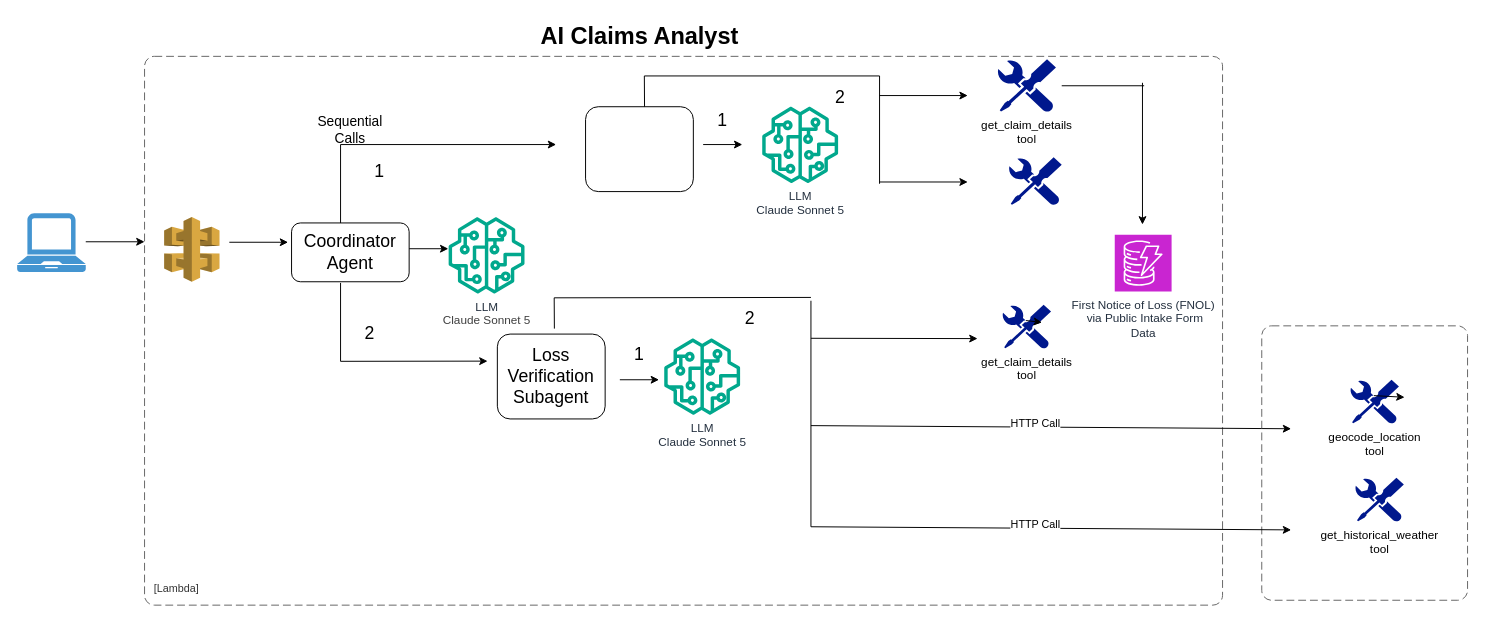
Image size: 1485x622. Some labels were removed from this diagram. Each missing label, with the box of its shape:
[MCP Server]: (1261, 325, 1468, 600)
API Gateway: (163, 216, 220, 282)
assess_fraud_indicators tool: (1008, 157, 1061, 205)
Fraud Risk Subagent: (585, 106, 693, 192)
React Frontend: (17, 213, 85, 271)
